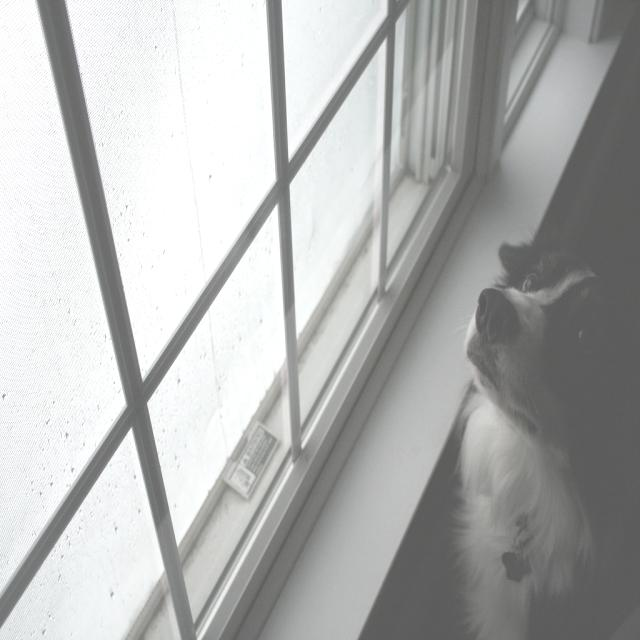Dog: (429, 133, 640, 640)
